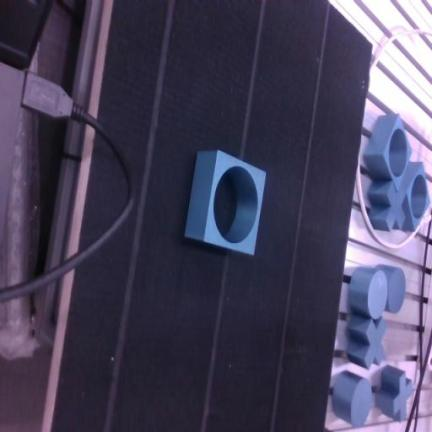square: (185, 150, 265, 254)
